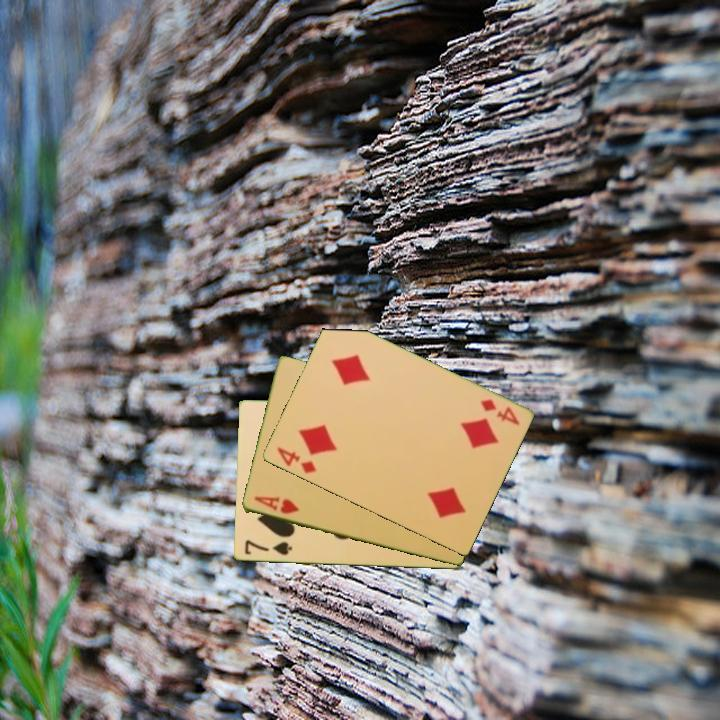4d: (272, 444, 319, 476), (477, 396, 522, 428)
7s: (241, 537, 294, 558)
Ah: (250, 493, 301, 517)
